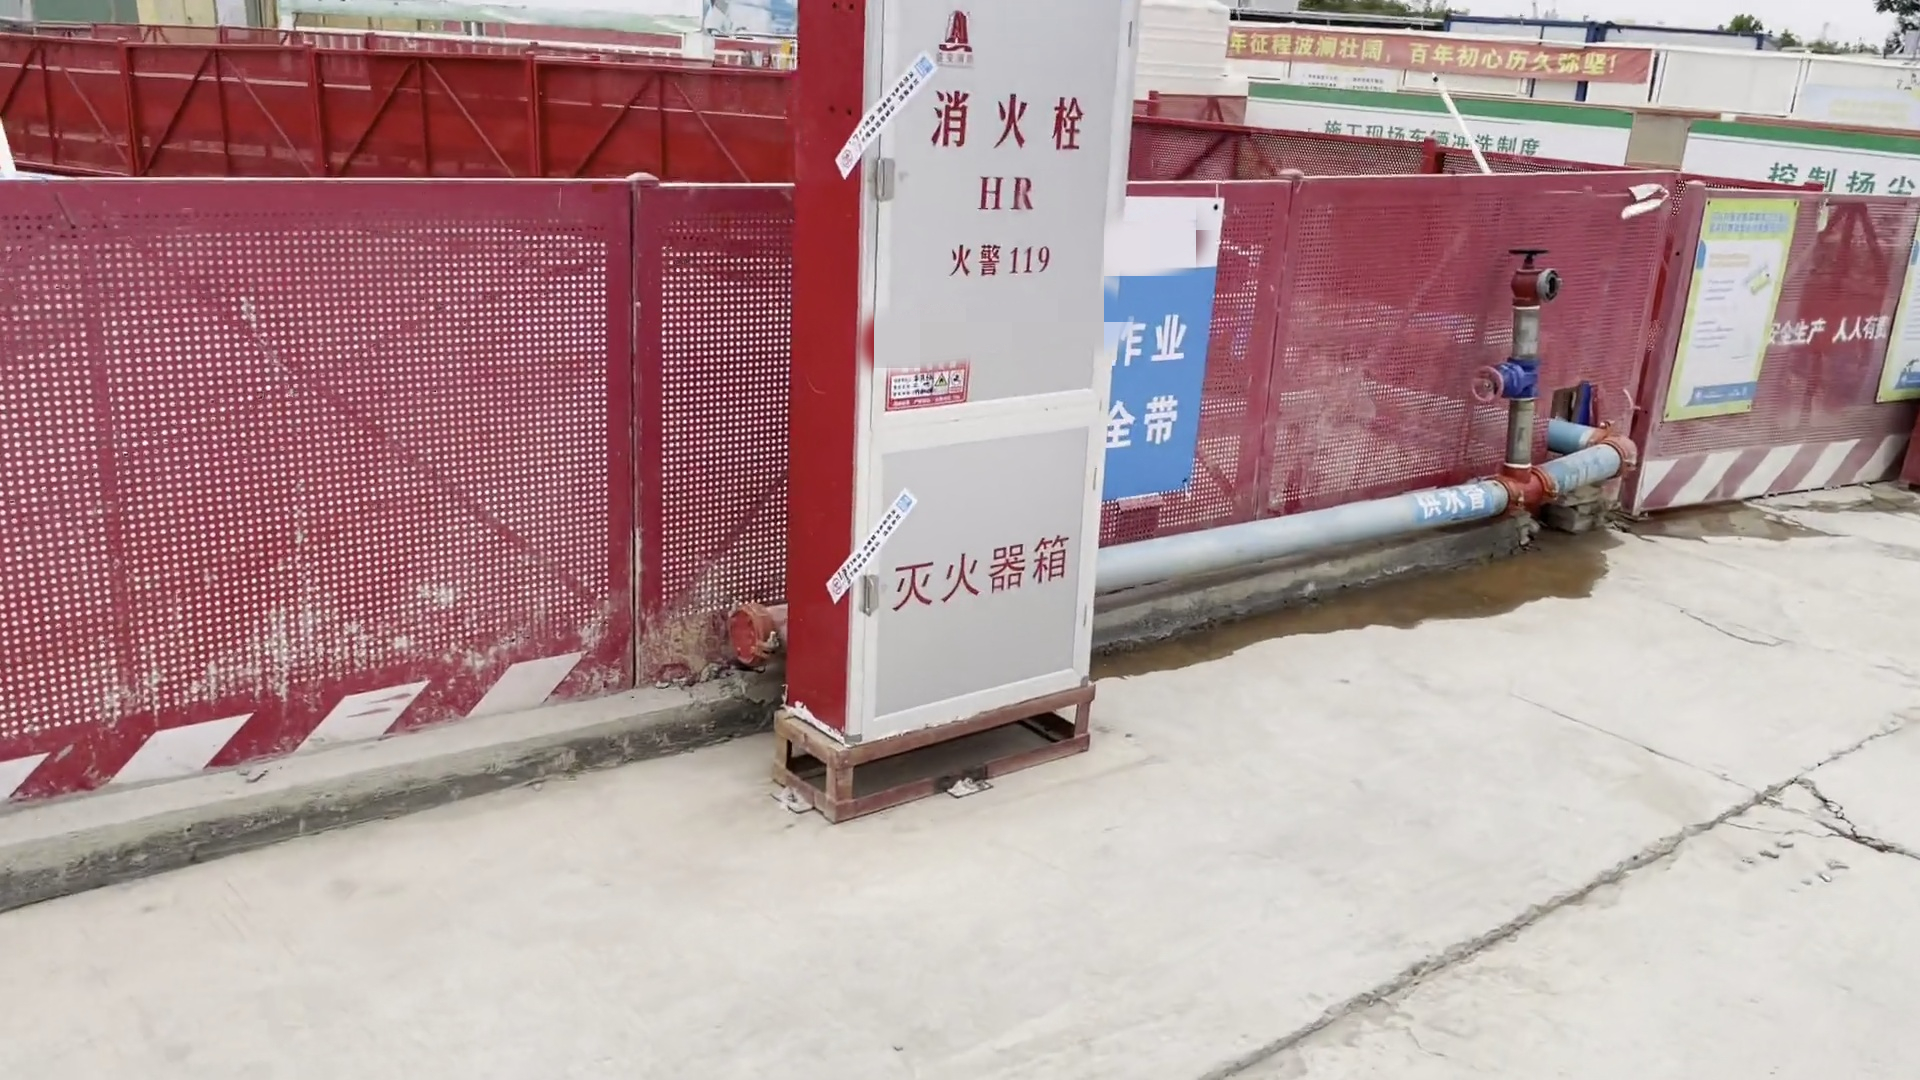fence: (4, 140, 1680, 877)
